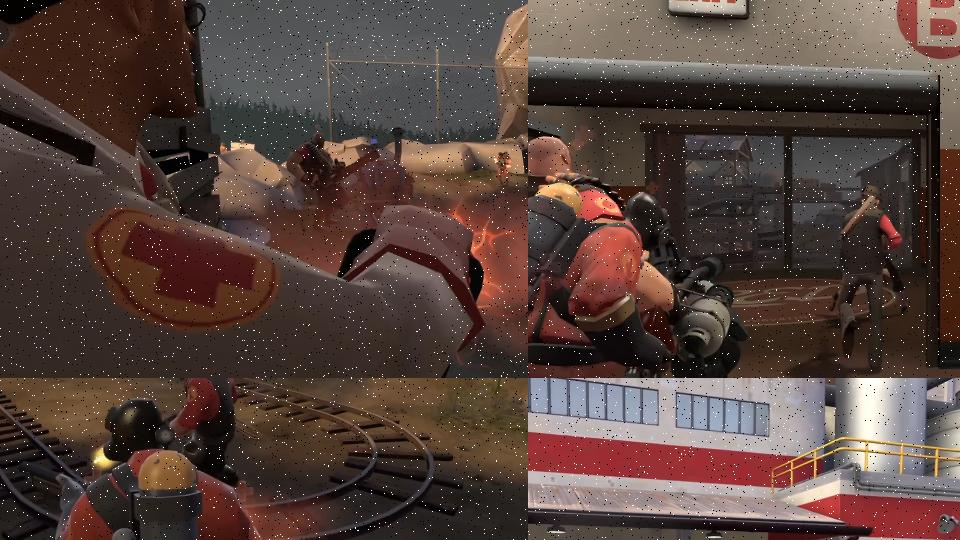Enemy: (0, 0, 483, 378), (528, 135, 748, 378), (528, 179, 735, 378), (19, 401, 256, 540), (836, 184, 902, 374), (287, 133, 380, 232), (165, 378, 239, 487), (494, 151, 512, 188)
